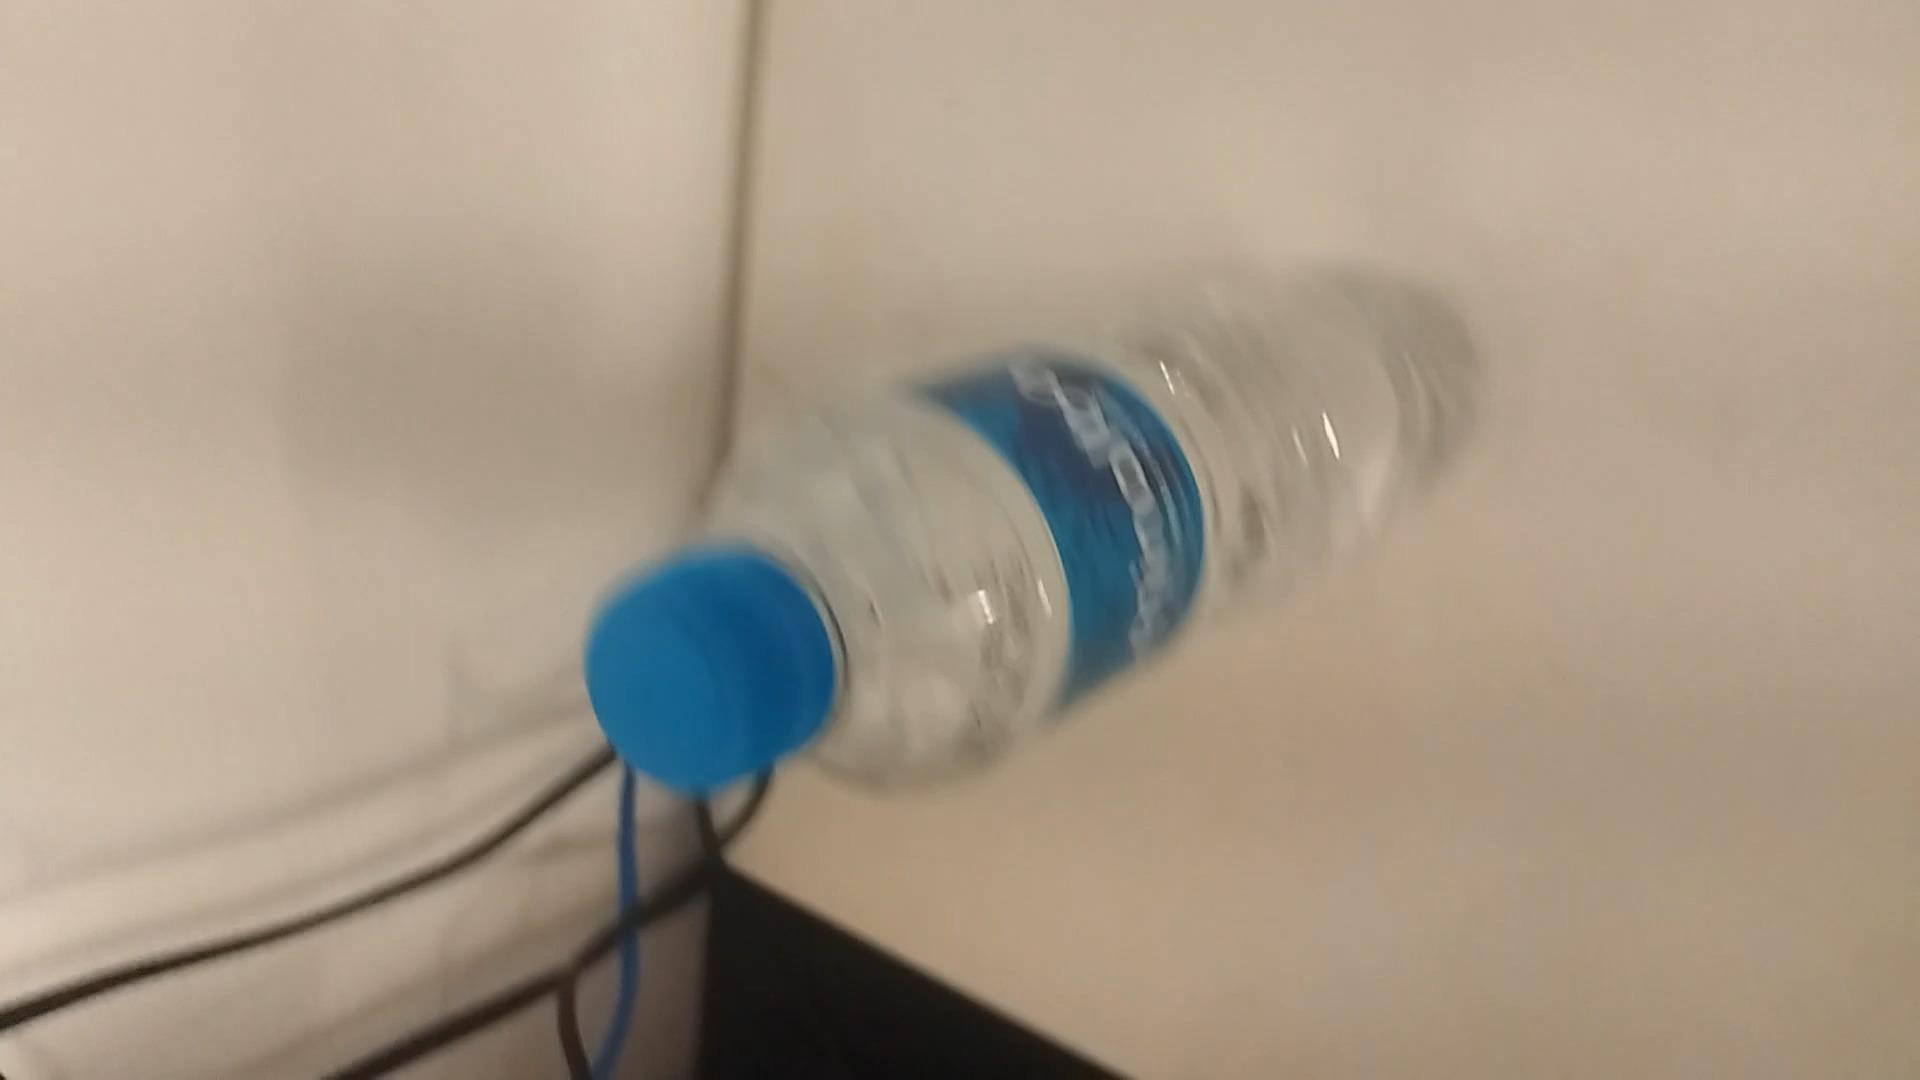agua: (592, 264, 1464, 791)
